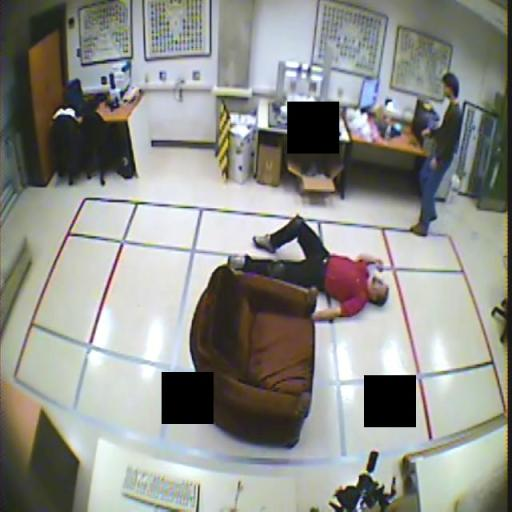Fall: (226, 215, 389, 320)
